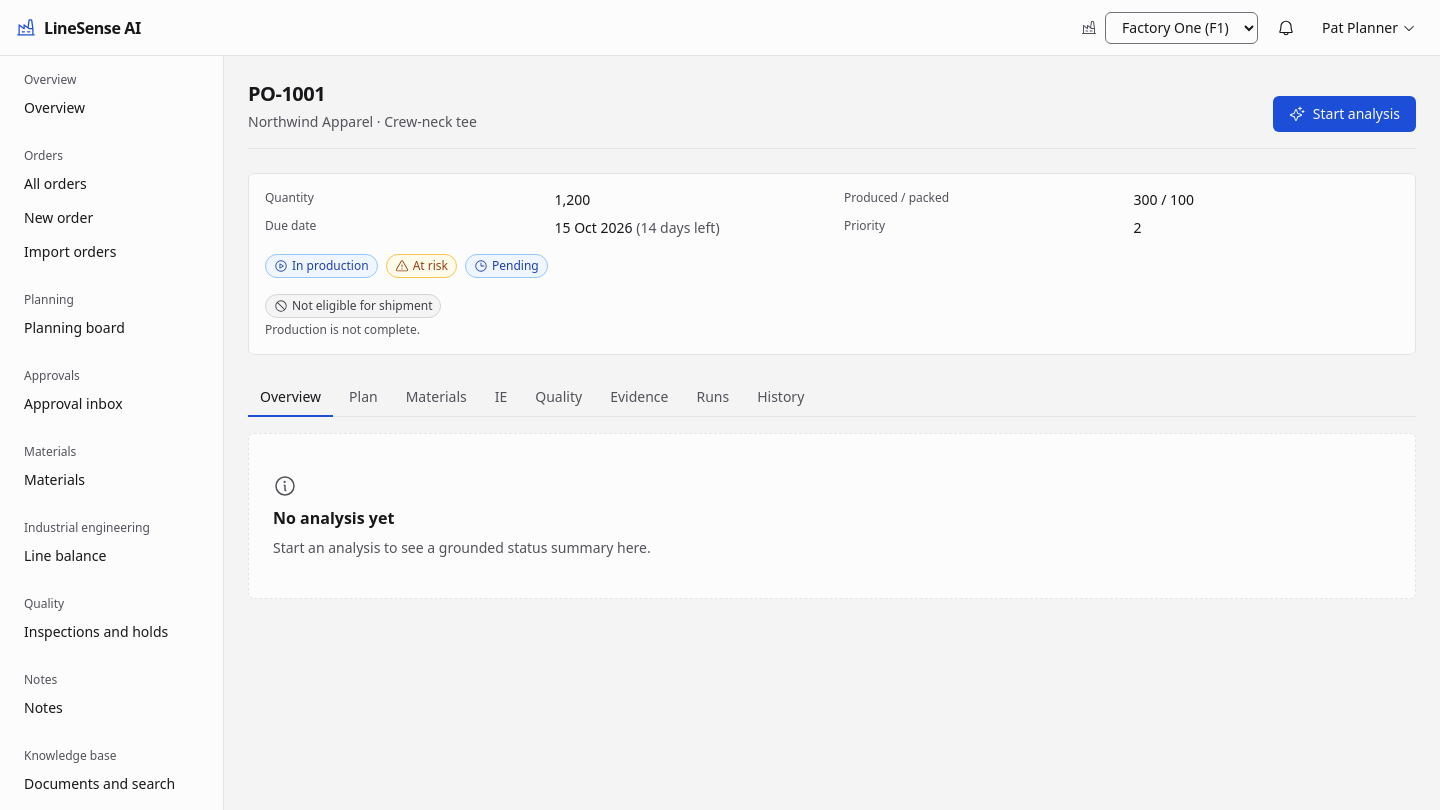
OrderDetailPage › lists audit events in the History tab
The image size is (1440, 810).
Check: the heading "PO-1001" is shown, box [248,80,325,107]
What coordinates should you click on to do the following:
click the tab "History"
I would click on:
 (781, 398)
Its box is [745,379,816,417].
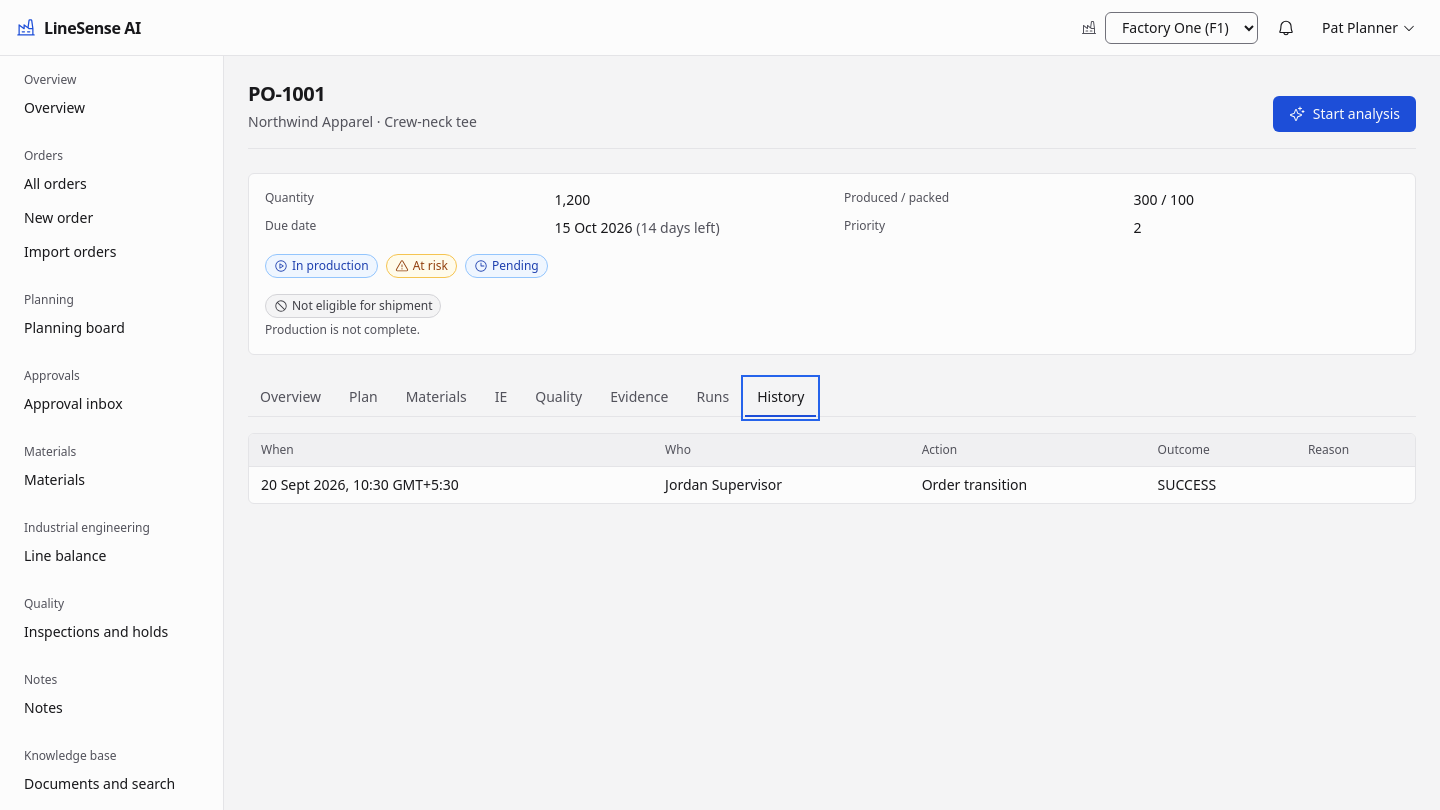
Check: the text "Jordan Supervisor" is shown, box [653,467,910,503]
Check: the text "Order transition" is shown, box [910,467,1146,503]
